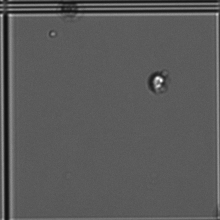Living Cell: (146, 66, 174, 102)
